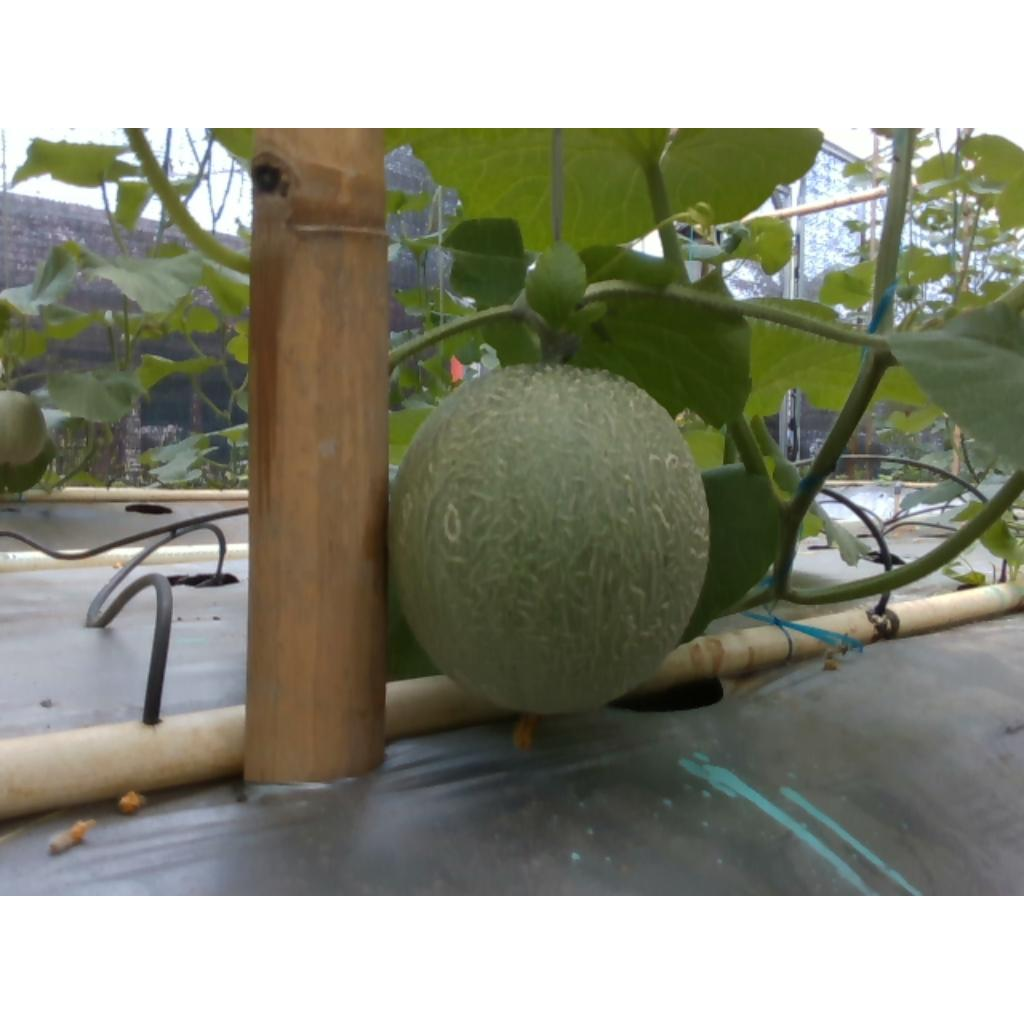melon: (390, 366, 710, 713)
